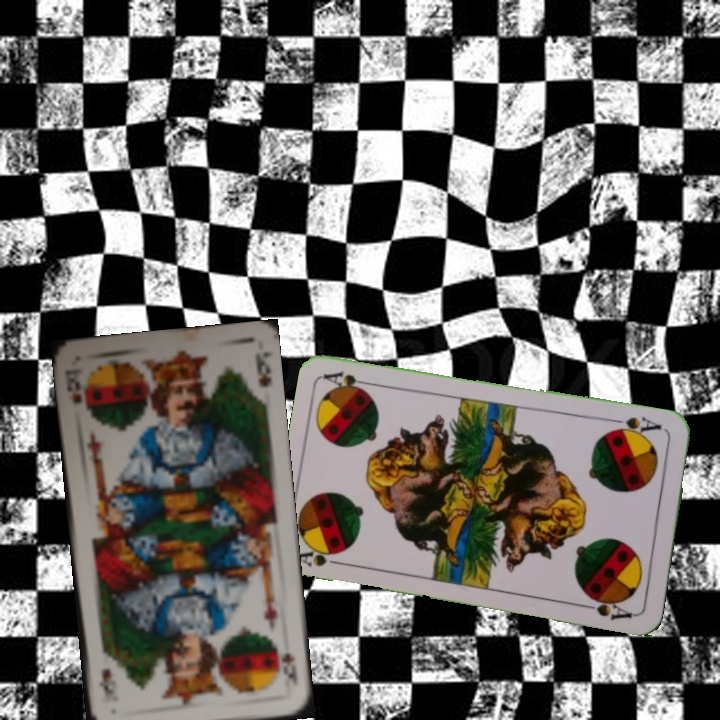SA: (608, 412, 668, 441), (291, 542, 351, 569)
SK: (273, 638, 298, 688), (63, 364, 85, 407)
